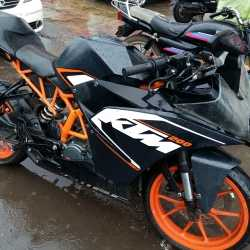Bike: (2, 28, 250, 248)
